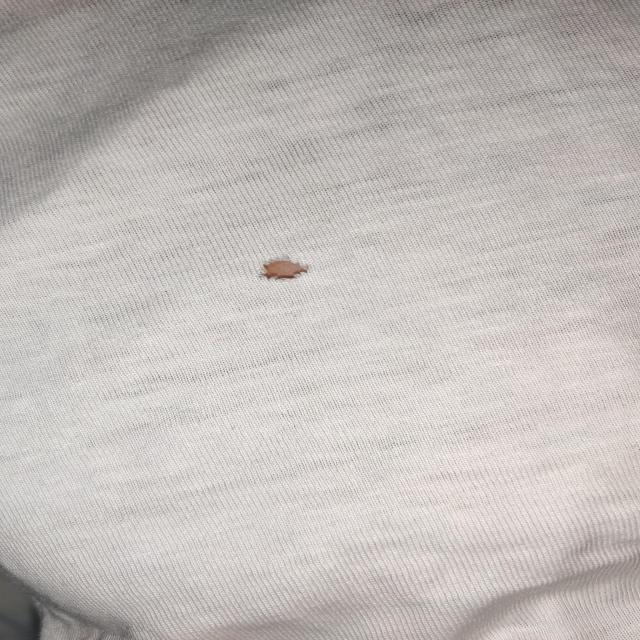Hole: (259, 258, 307, 279)
